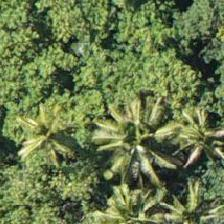coconut_tree: (106, 92, 196, 182), (0, 95, 90, 185), (158, 86, 223, 176), (77, 175, 167, 223), (147, 174, 223, 223)
